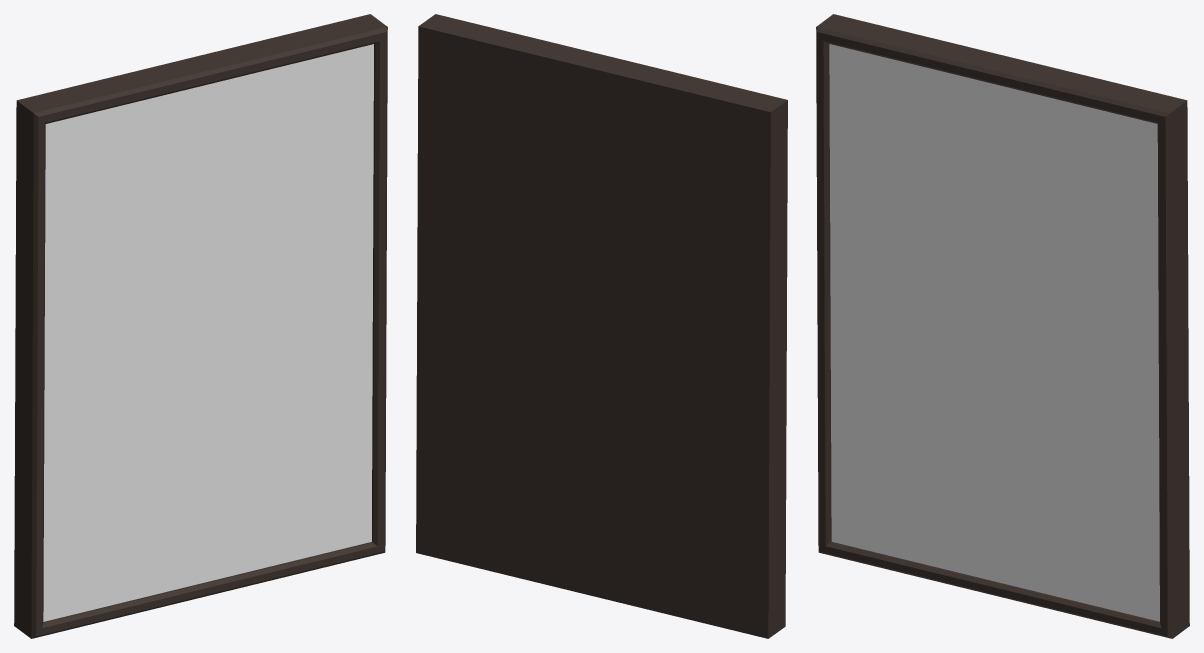
Rendered from obj_001_poster.fbx.
3 views of the same model, side by side, from view 1: azimuth 30°, elevation 25°; view 2: azimuth 150°, elevation 25°; view 3: azimuth 330°, elevation 25° (orthographic).
Visible parts, largest first — view 1: boli, xiangkuang; view 2: xiangkuang; view 3: boli, xiangkuang.
Part boxes in pixels (<box>): boli: <box>43,44,373,621</box>; xiangkuang: <box>14,14,387,638</box>; xiangkuang: <box>416,14,787,638</box>; boli: <box>829,44,1159,621</box>; xiangkuang: <box>816,14,1189,638</box>.
Bounding box in the file's own units: 2.16 × 3.08 × 0.2262.
Materials: 3 (2 with a texture image).
